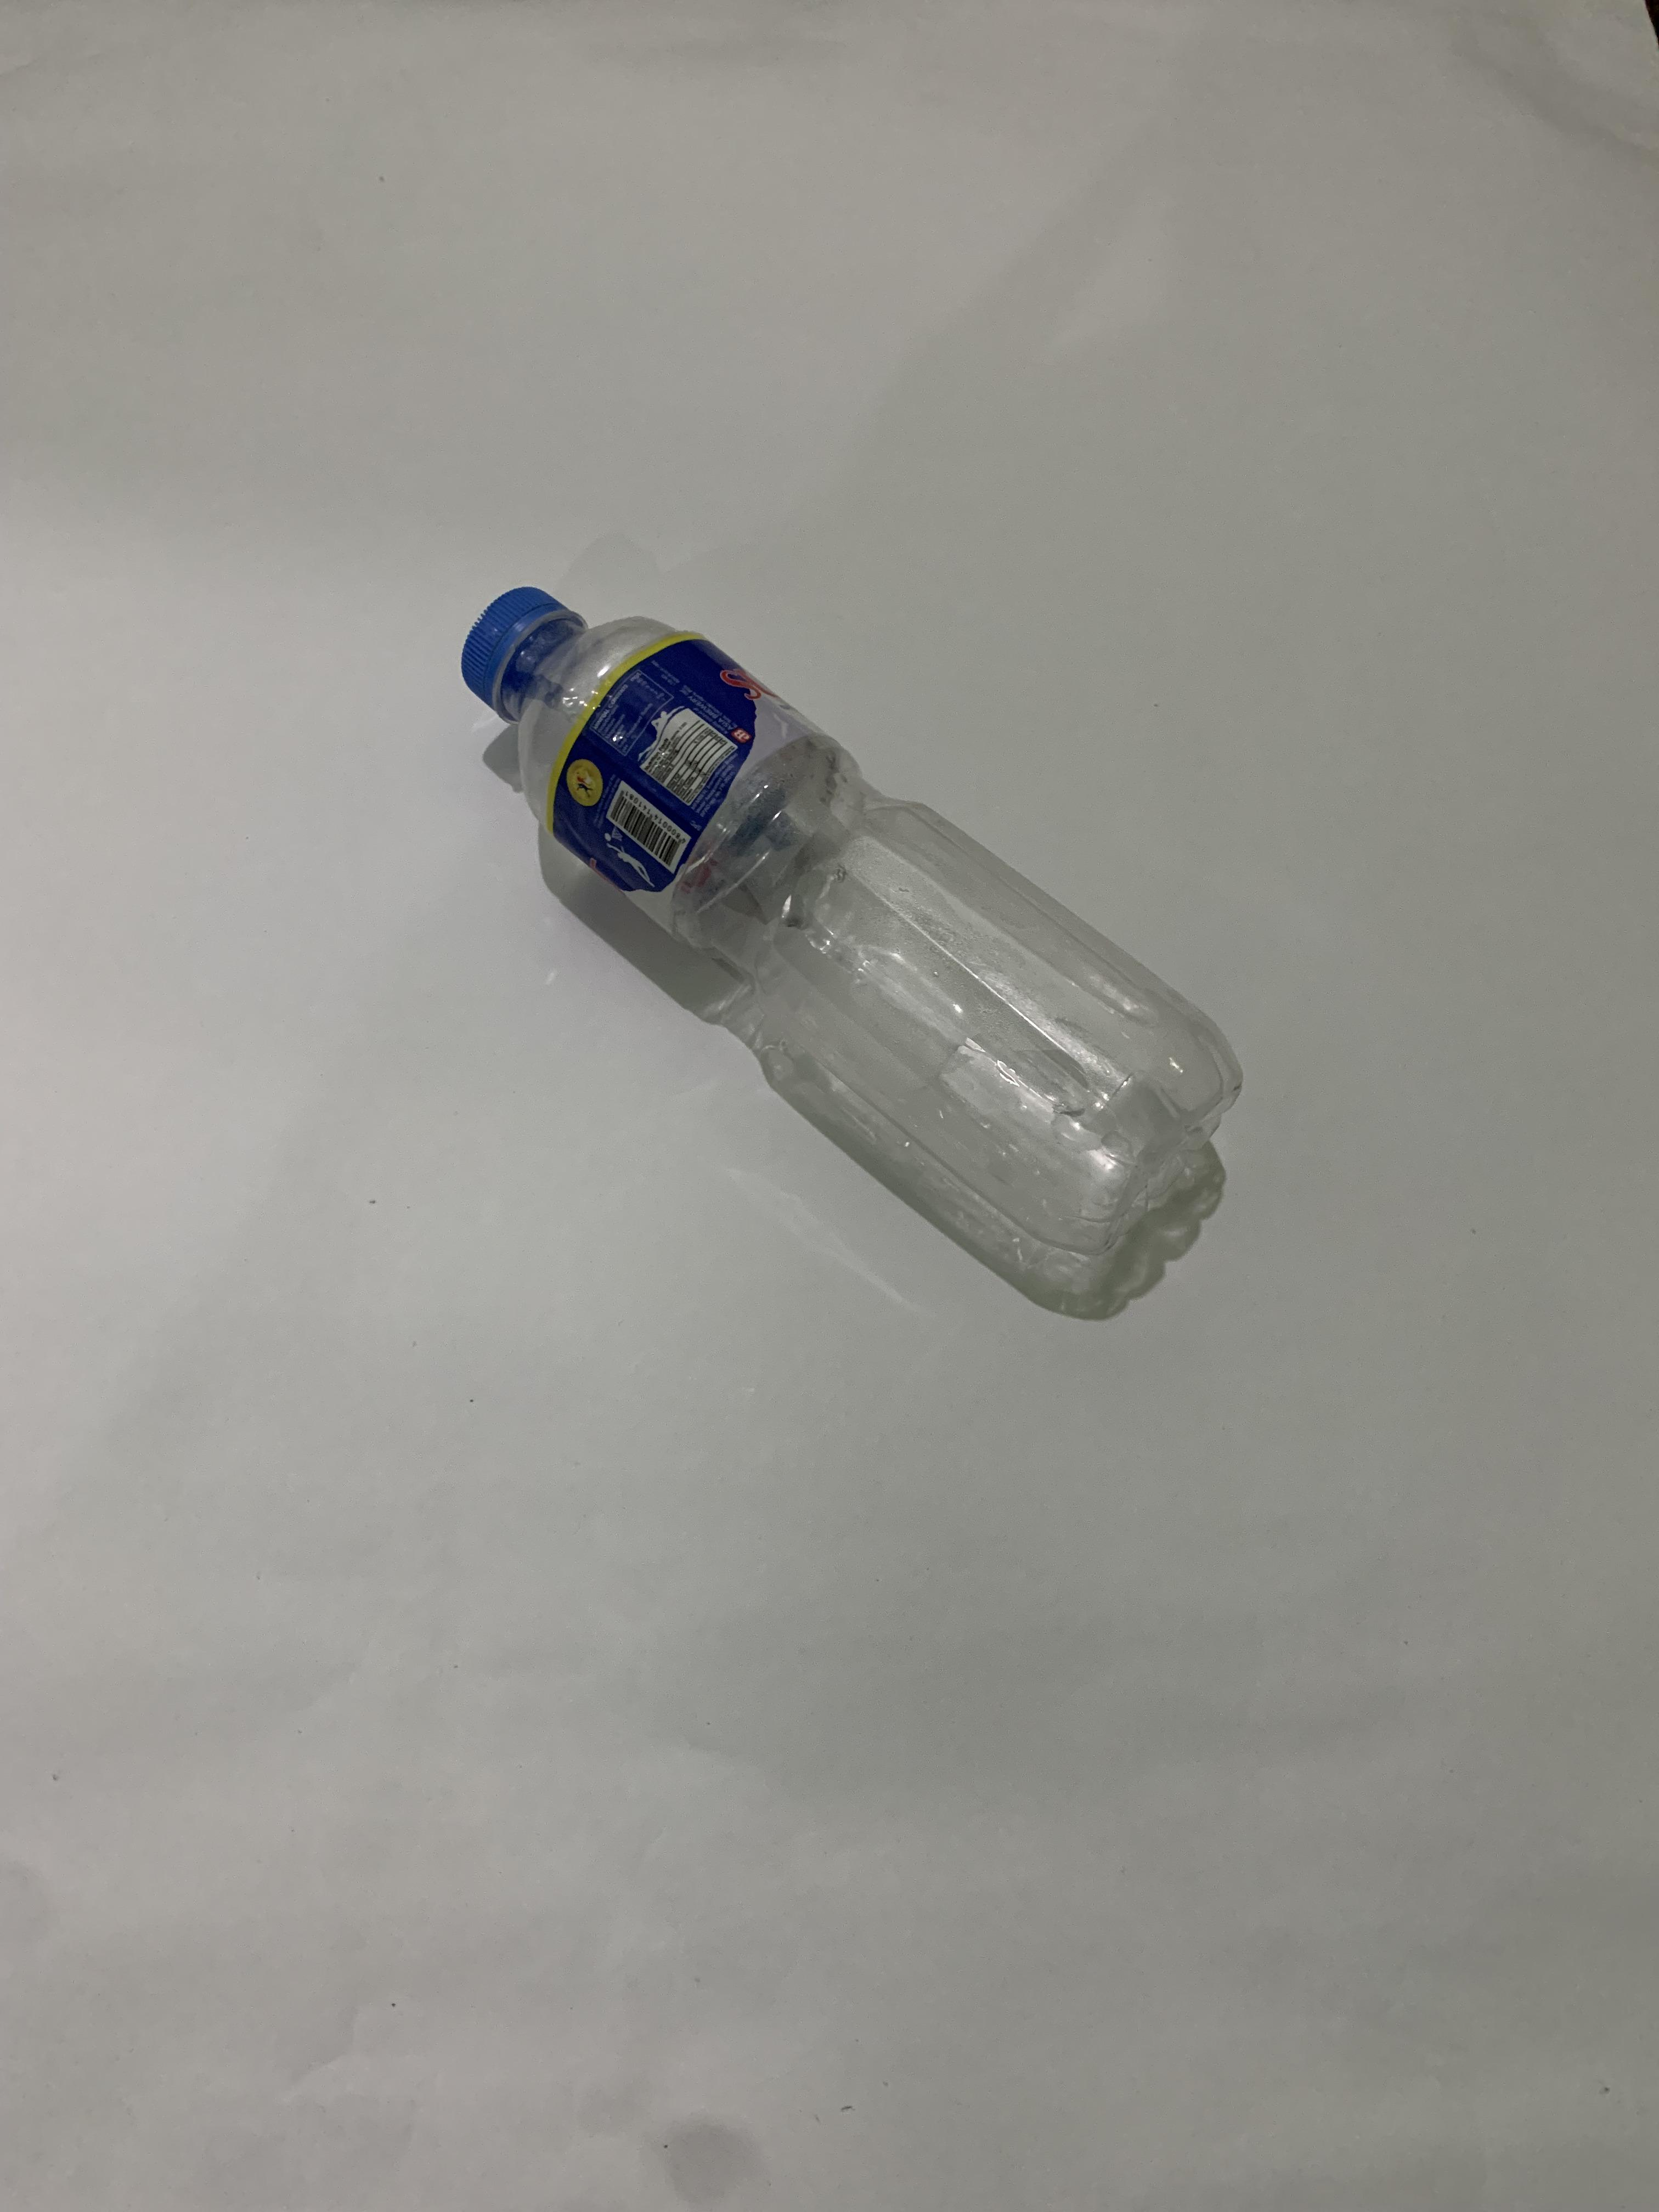bottle: (0, 577, 420, 1322)
